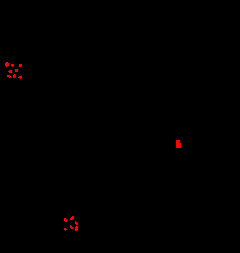Target: (176, 140, 181, 148), (5, 62, 9, 67), (70, 216, 74, 220), (75, 226, 78, 231), (8, 70, 12, 73), (13, 74, 16, 78), (7, 75, 11, 78), (18, 76, 22, 79), (64, 218, 67, 222), (75, 221, 78, 225), (70, 225, 73, 229), (11, 64, 14, 67), (19, 64, 22, 67), (15, 69, 18, 72), (64, 228, 67, 231)
